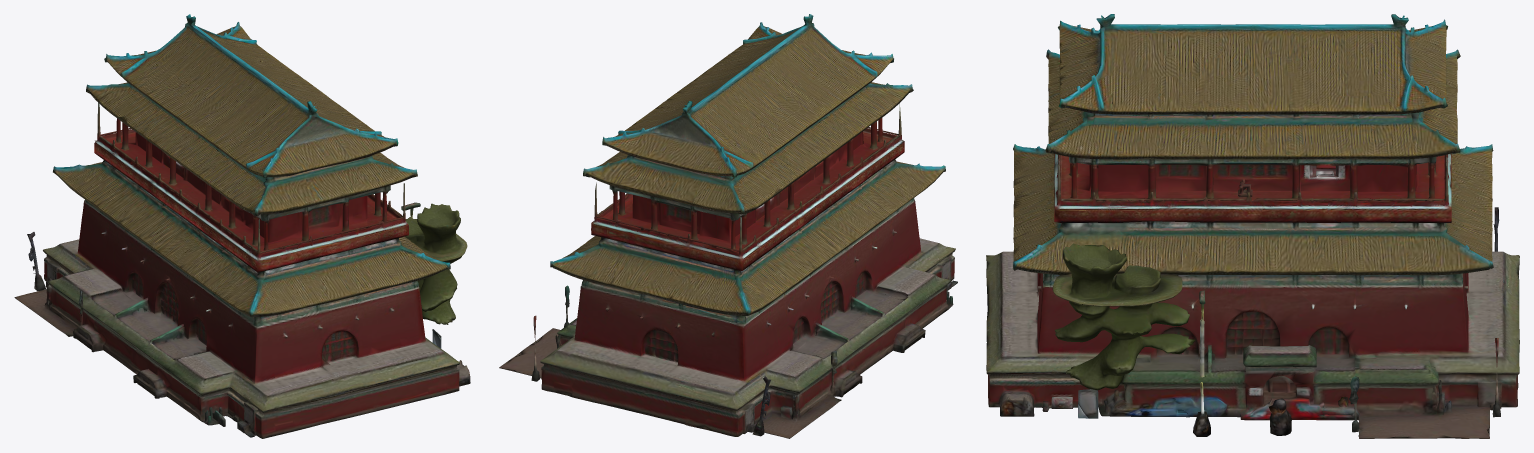
File: detail.glb
3 renders of one model, left to right at view 1: azimuth 30°, elevation 25°; view 2: azimuth 150°, elevation 25°; view 3: azimuth 270°, elevation 25°, orthographic. The views are drawn at different scales.
Parts seen in each view (by area): view 1: drum/tripo_node_09111192-4bc7-4bd8-a351-01c6180949ad; view 2: drum/tripo_node_09111192-4bc7-4bd8-a351-01c6180949ad; view 3: drum/tripo_node_09111192-4bc7-4bd8-a351-01c6180949ad.
Part boxes in pixels (x1,y1,x2,y2): drum/tripo_node_09111192-4bc7-4bd8-a351-01c6180949ad: [14, 14, 470, 438]; drum/tripo_node_09111192-4bc7-4bd8-a351-01c6180949ad: [499, 14, 957, 438]; drum/tripo_node_09111192-4bc7-4bd8-a351-01c6180949ad: [986, 14, 1519, 438].
Size of the model in its own units: 0.5081 by 0.46 by 0.6644.
1 material, 1 textured.
